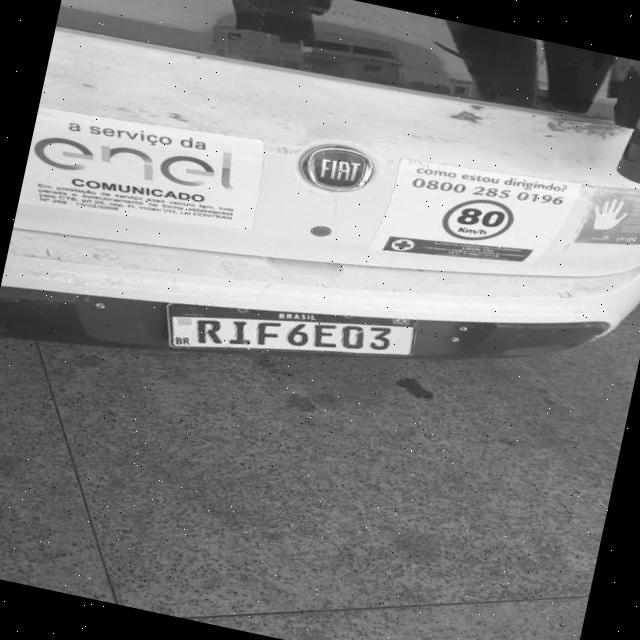placa_mercosul: (166, 305, 415, 355)
